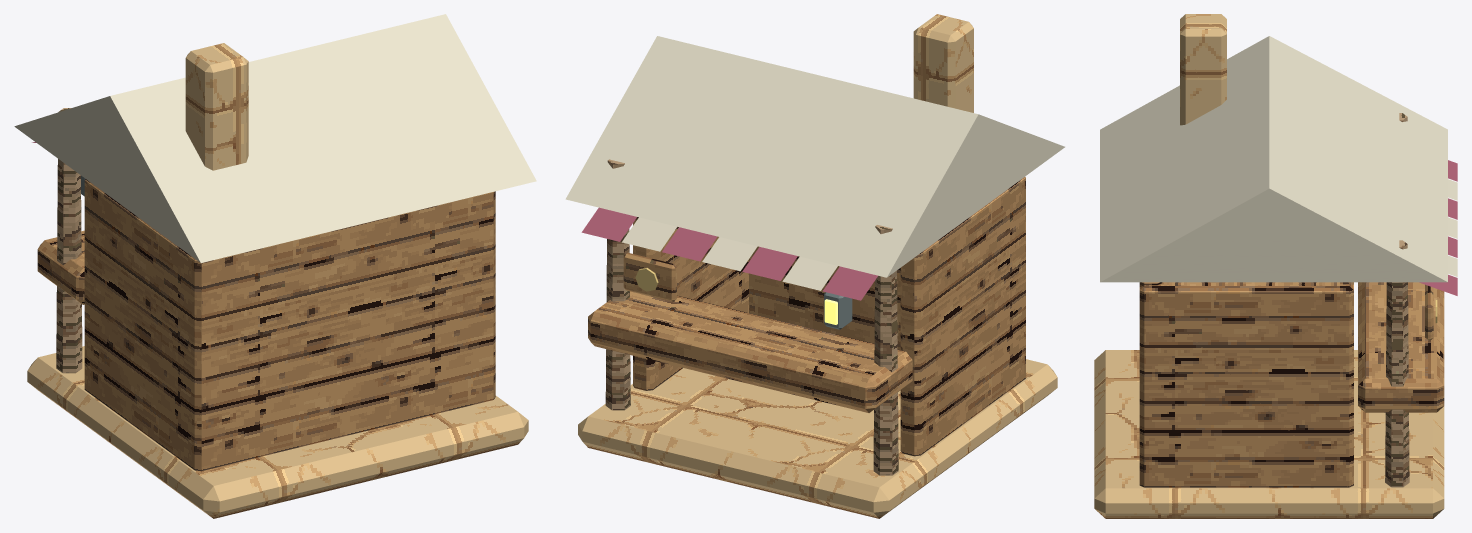
The model's file is loja_mascate.fbx.
The picture shows the model from 3 angles, left to right: view 1: azimuth 30°, elevation 25°; view 2: azimuth 150°, elevation 25°; view 3: azimuth 270°, elevation 25°; orthographic projection. The views are drawn at different scales.
Visible parts, largest first — view 1: deserto_loja_mascate; view 2: deserto_loja_mascate; view 3: deserto_loja_mascate.
Boxes of the visible parts, bbox=[...] form: deserto_loja_mascate: bbox=[14, 14, 536, 518]; deserto_loja_mascate: bbox=[565, 14, 1064, 518]; deserto_loja_mascate: bbox=[1094, 14, 1457, 518].
Size of the model in its own units: 192 by 226 by 193.
8 materials, 3 textured.
